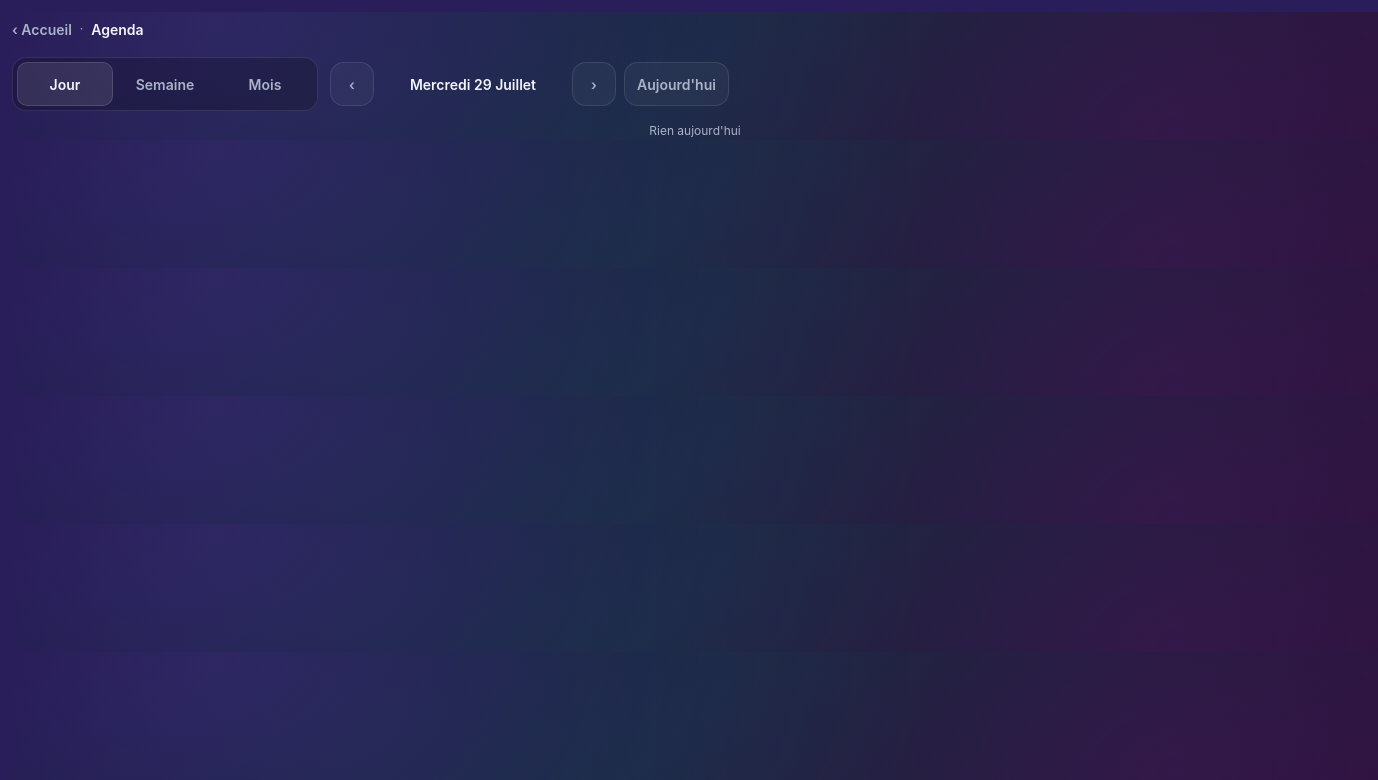
AgendaDetail (Story 10.2) › ramène sur le MOIS contenant aujourd'hui
Click the tab "Mois".
click(265, 84)  # box [217,62,313,106]
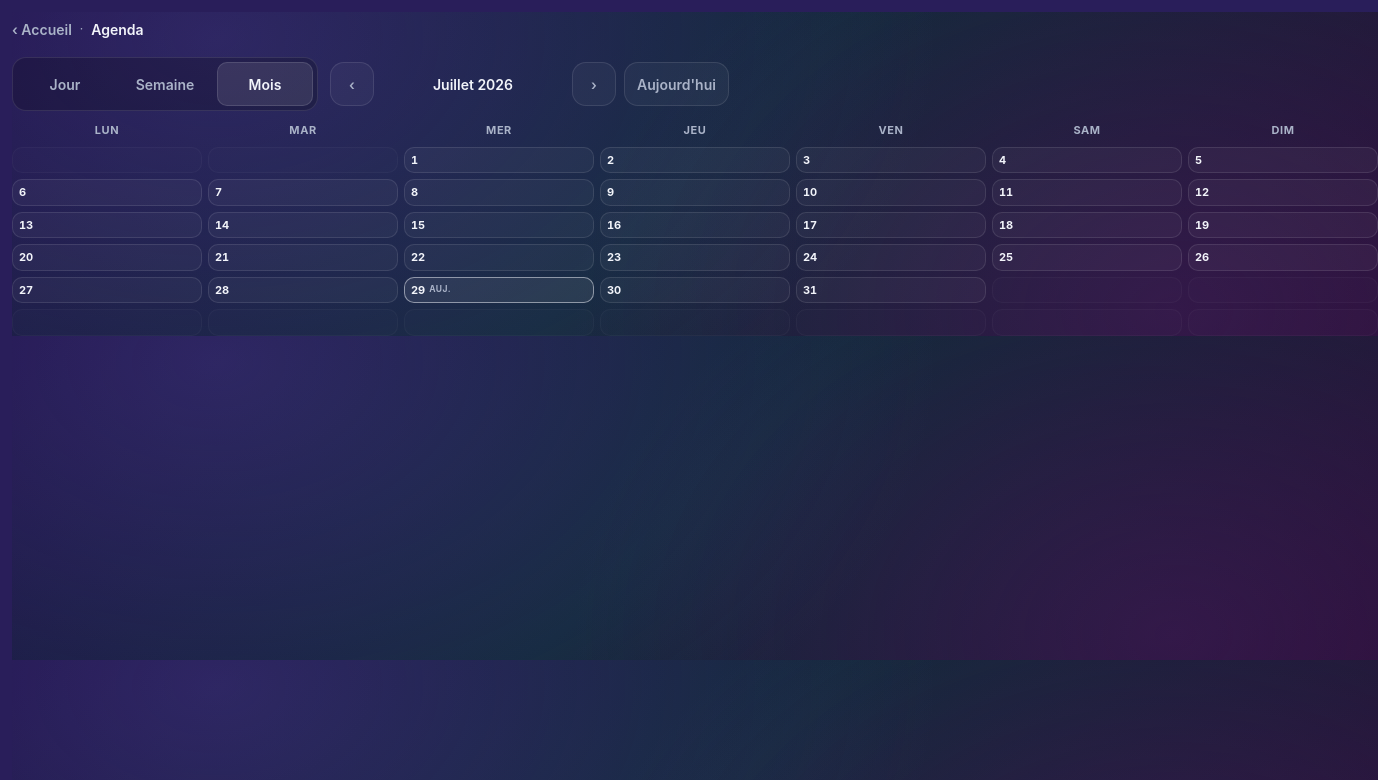
Click the button named "période suivante".
click(594, 84)  # box [572,62,616,106]
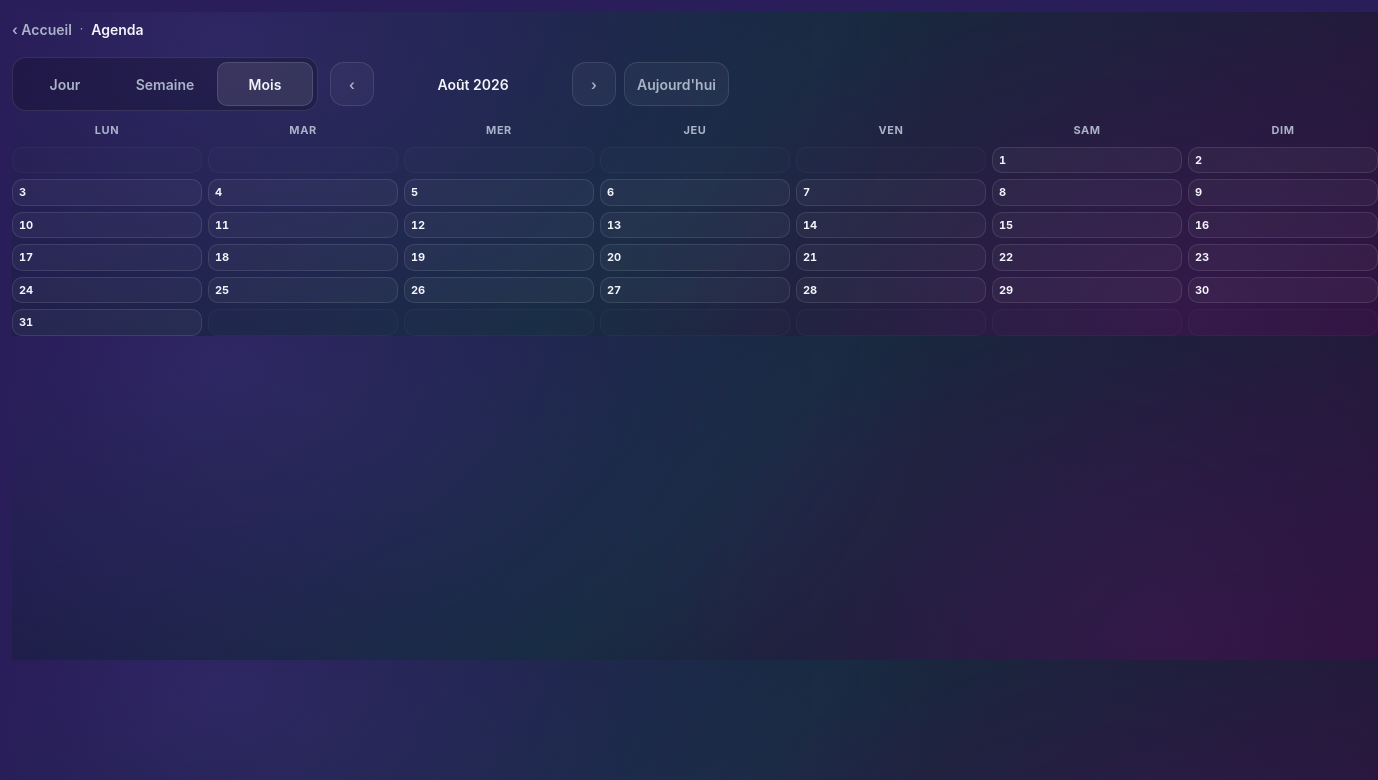
Expected: the text "auj." is not shown
Click the button "Aujourd'hui".
click(676, 84)  # box [624,62,729,106]
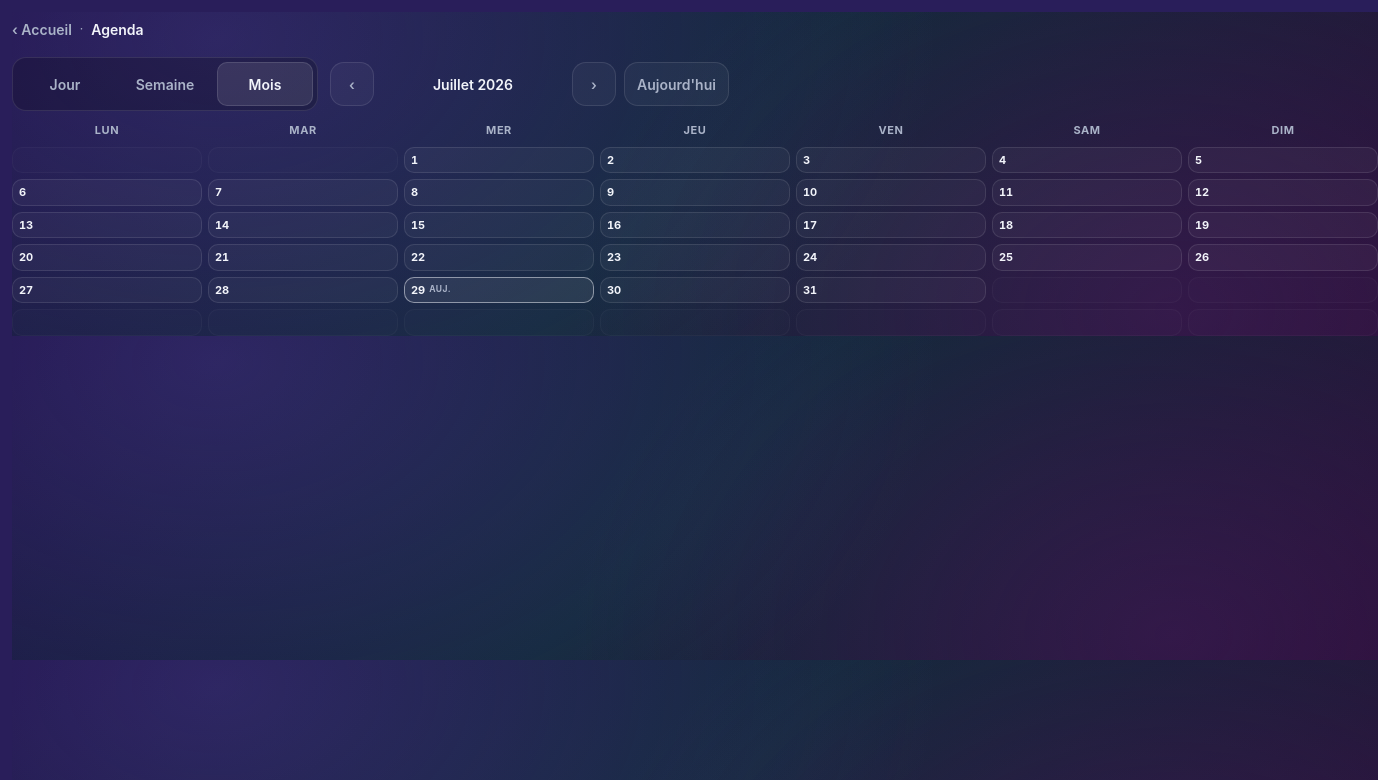
Expected: the text "juillet 2026" is shown, [433,76,513,92]
Expected: the text "auj." is shown, [429,283,451,296]
